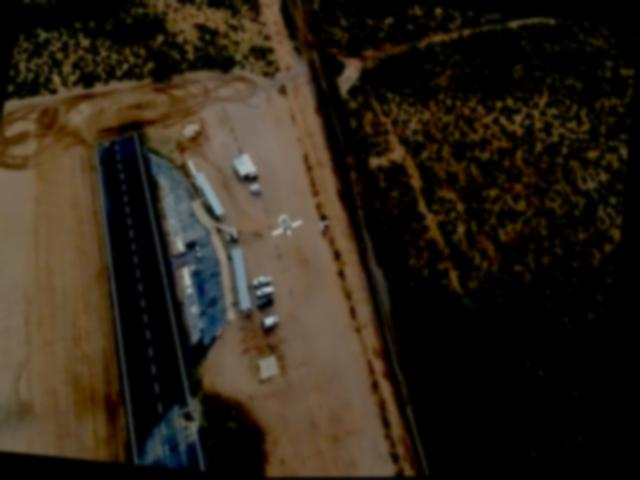plane: (273, 212, 308, 240)
